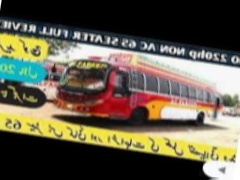bus: (54, 47, 225, 140)
